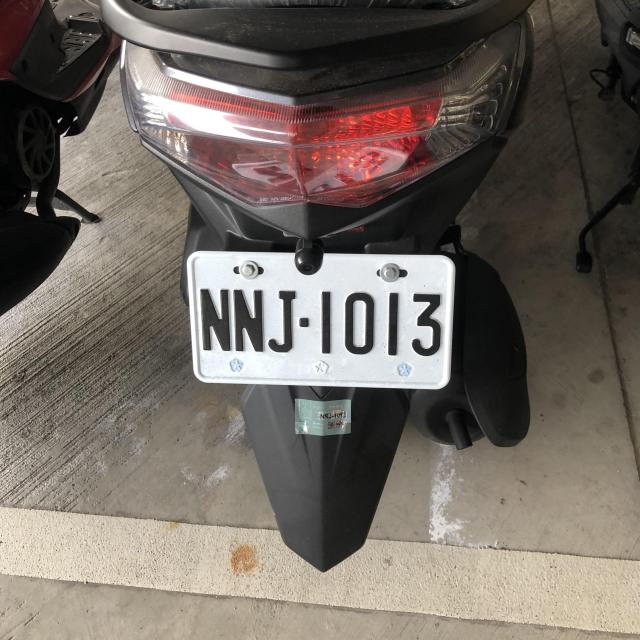W: (184, 248, 456, 391)
